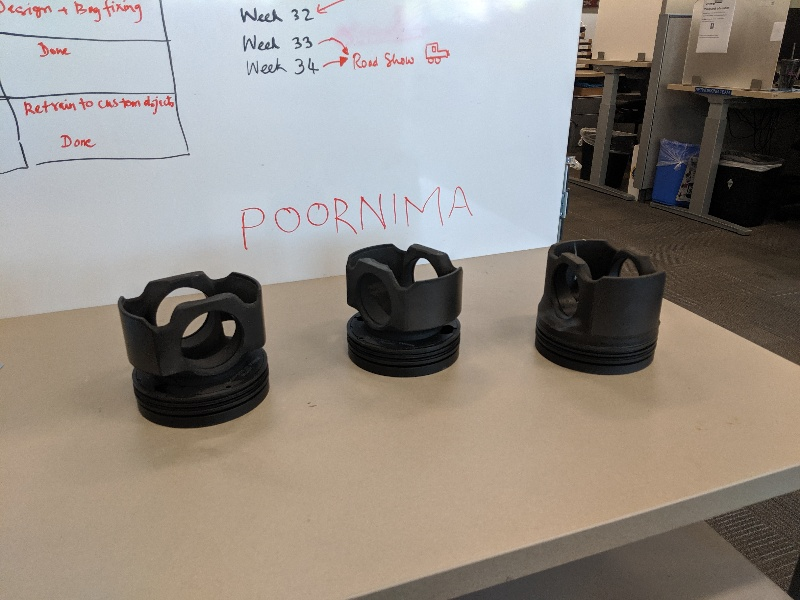piston: (114, 265, 278, 430), (528, 237, 670, 379), (341, 239, 471, 384)
